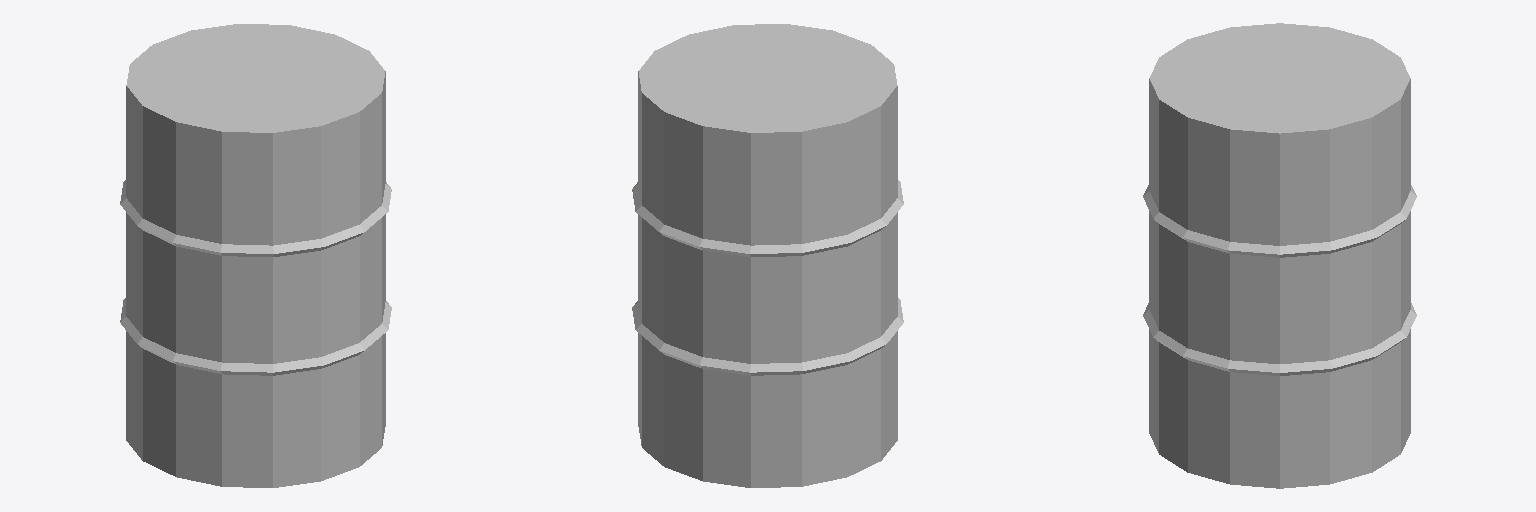
The model's file is prop_barrel_01.obj.
3 views of the same model, side by side, from view 1: azimuth 30°, elevation 25°; view 2: azimuth 150°, elevation 25°; view 3: azimuth 270°, elevation 25° (orthographic).
Visible parts, largest first — view 1: Cylinder; view 2: Cylinder; view 3: Cylinder.
Boxes of the visible parts, x1=… form: Cylinder: x1=120, y1=24, x2=391, y2=487; Cylinder: x1=632, y1=24, x2=903, y2=487; Cylinder: x1=1143, y1=23, x2=1416, y2=488.
Bounding box in the file's own units: 2.1 × 3 × 2.1.